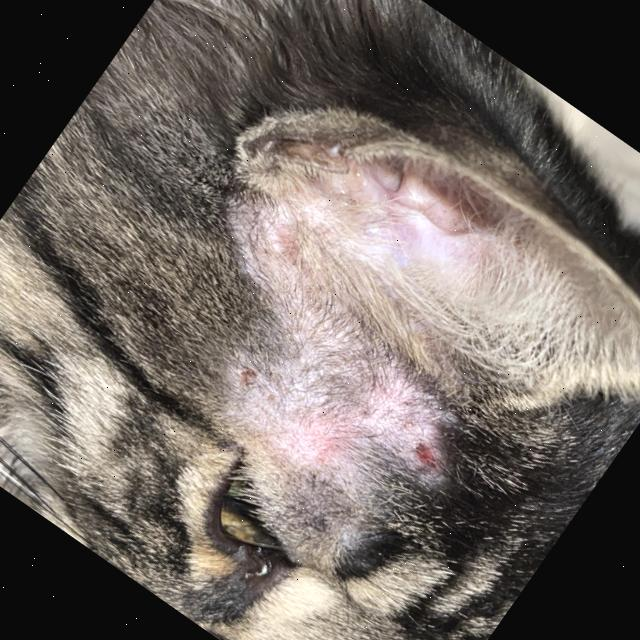cat-ringworm: (189, 24, 640, 460), (333, 384, 493, 528), (214, 188, 352, 312), (161, 313, 302, 433)
